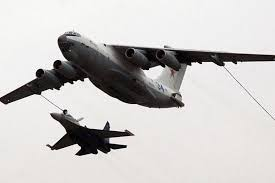fighter: (44, 109, 137, 158)
